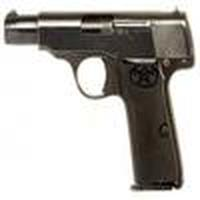gun: (2, 7, 200, 171)
